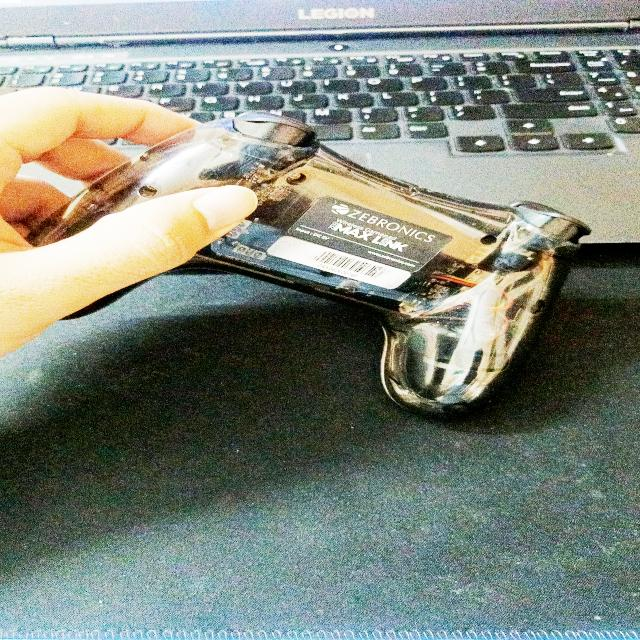gamepad: (25, 112, 592, 418)
